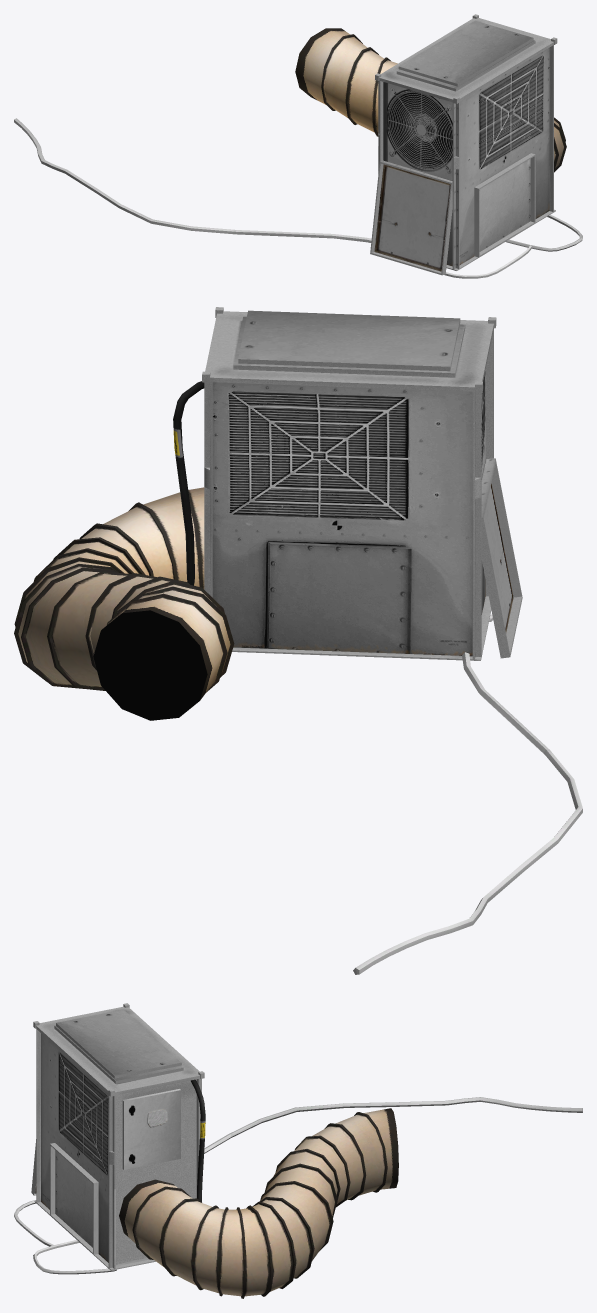
Rendered from ac_unit.dae.
3 renders of one model, top to bottom at view 1: azimuth 30°, elevation 25°; view 2: azimuth 150°, elevation 25°; view 3: azimuth 270°, elevation 25°, orthographic. The views are drawn at different scales.
Parts seen in each view (by area): view 1: Line001, Cylinder118; view 2: Line001, Cylinder118; view 3: Line001, Cylinder118.
Boxes of the visible parts, x1=… form: Line001: x1=14, y1=14, x2=582, y2=278; Cylinder118: x1=295, y1=28, x2=566, y2=172; Line001: x1=173, y1=307, x2=582, y2=974; Cylinder118: x1=14, y1=487, x2=234, y2=720; Line001: x1=14, y1=1003, x2=582, y2=1274; Cylinder118: x1=119, y1=1108, x2=398, y2=1298.
Size of the model in its own units: 4.63 by 5.6 by 2.13.
Materials: 2 (2 with a texture image).
